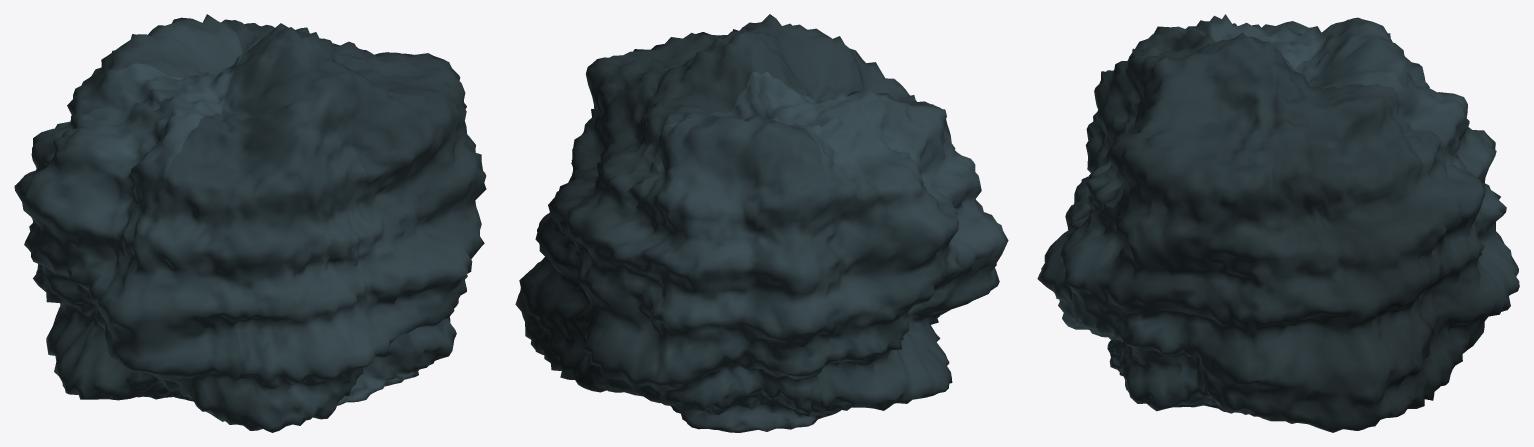
The model's file is SM_Basalt_03.fbx.
The picture shows the model from 3 angles, left to right: view 1: azimuth 30°, elevation 25°; view 2: azimuth 150°, elevation 25°; view 3: azimuth 270°, elevation 25°; orthographic projection. The views are drawn at different scales.
Parts seen in each view (by area): view 1: SM_Basalt_03.001; view 2: SM_Basalt_03.001; view 3: SM_Basalt_03.001.
Part boxes in pixels (x1,y1,x2,y2): SM_Basalt_03.001: [14, 14, 486, 432]; SM_Basalt_03.001: [515, 14, 1008, 432]; SM_Basalt_03.001: [1037, 14, 1519, 432].
Size of the model in its own units: 226 by 225 by 177.
